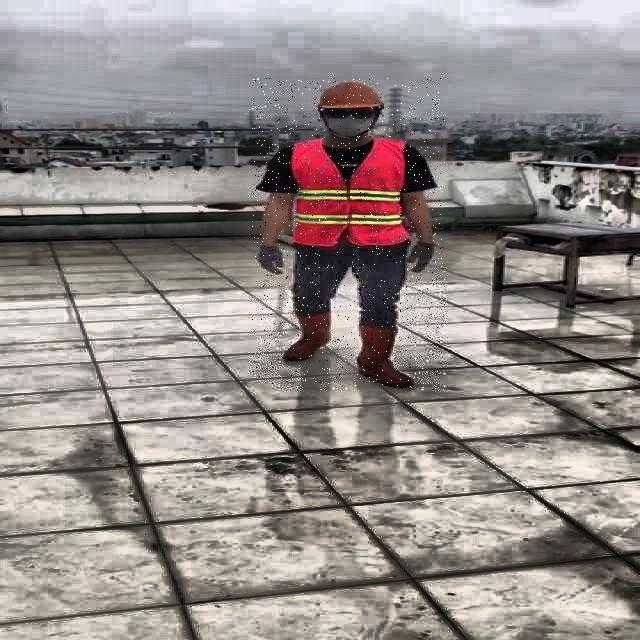safety_helmet: (315, 80, 385, 113)
safety_jacket: (290, 138, 408, 245)
